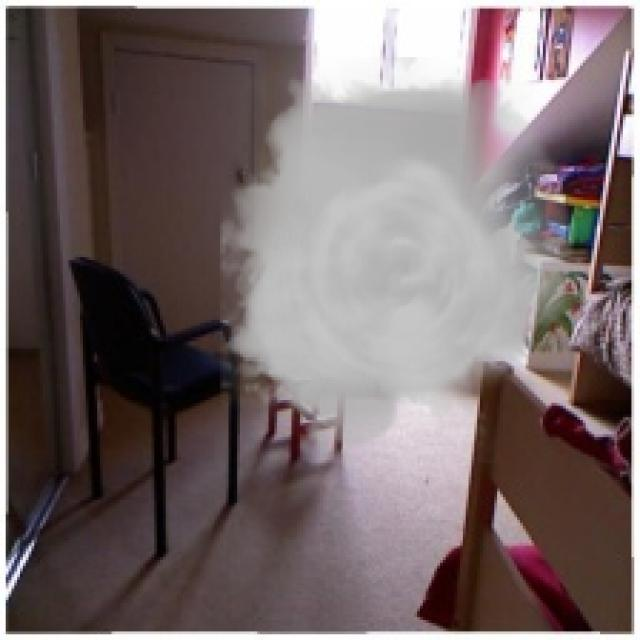smoke: (220, 57, 574, 463)
